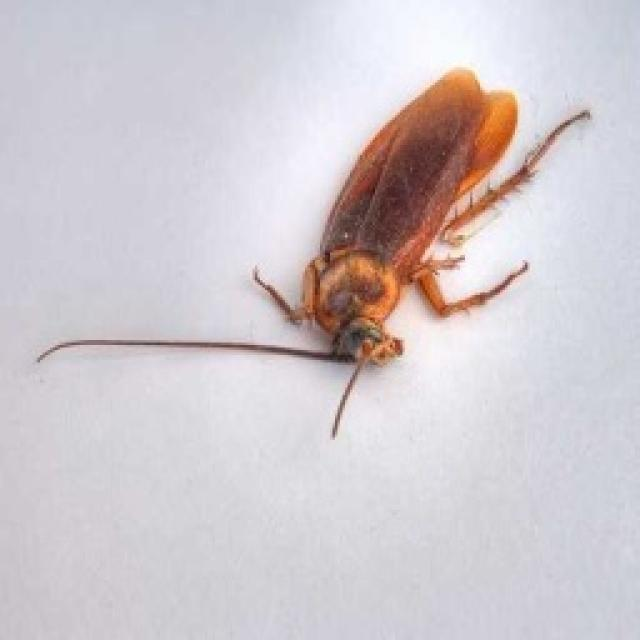cockroach: (31, 63, 595, 442)
